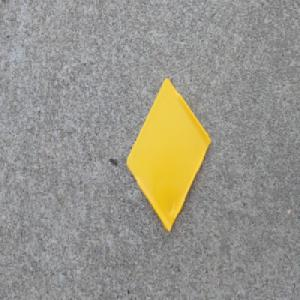PlasticPart: (124, 75, 212, 235)
